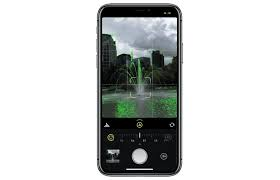camera: (129, 146, 150, 165)
